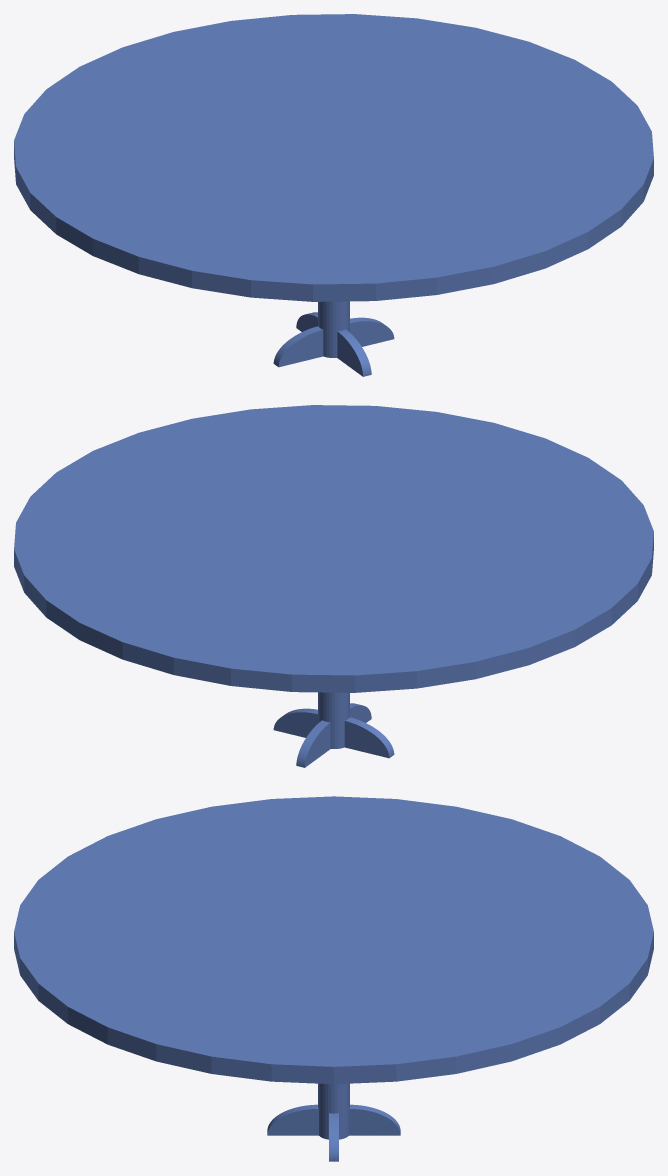
Rendered from mesacocina.obj.
3 views of the same model, one above another, from view 1: azimuth 30°, elevation 25°; view 2: azimuth 150°, elevation 25°; view 3: azimuth 270°, elevation 25° (orthographic).
Parts seen in each view (by area): view 1: Cylinder.006; view 2: Cylinder.006; view 3: Cylinder.006.
Part boxes in pixels (box(x1,y1,x2,y2)): Cylinder.006: box(14, 14, 653, 376); Cylinder.006: box(14, 405, 653, 767); Cylinder.006: box(14, 796, 653, 1161).
Bounding box in the file's own units: 19.81 × 6.89 × 19.81.
1 material, 1 textured.
